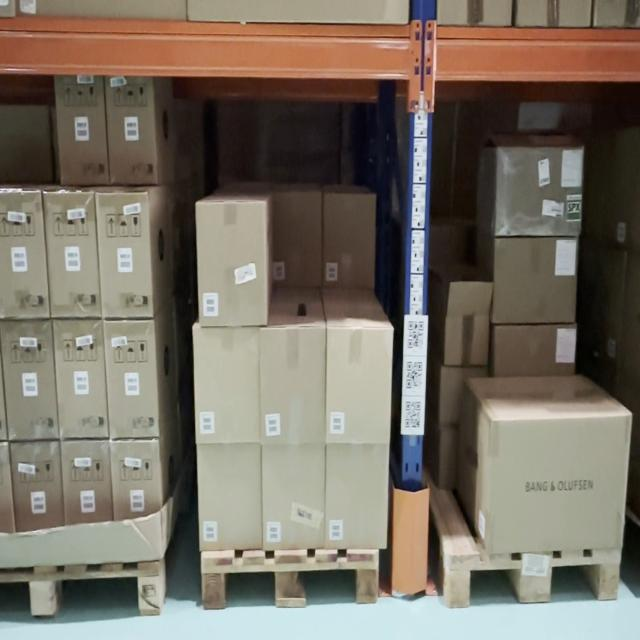box: (489, 415, 632, 557), (496, 146, 583, 236), (200, 206, 266, 324), (44, 192, 102, 319), (262, 329, 325, 444), (494, 238, 577, 325), (327, 330, 391, 442), (196, 329, 259, 442), (0, 322, 59, 441), (103, 321, 159, 440), (99, 194, 152, 318), (54, 321, 108, 439), (0, 191, 50, 318), (264, 445, 323, 550), (201, 444, 259, 550), (328, 444, 386, 547), (105, 73, 158, 184), (56, 75, 108, 185), (11, 443, 65, 531), (110, 439, 162, 521), (62, 442, 112, 526), (494, 326, 576, 376), (446, 314, 488, 364)
